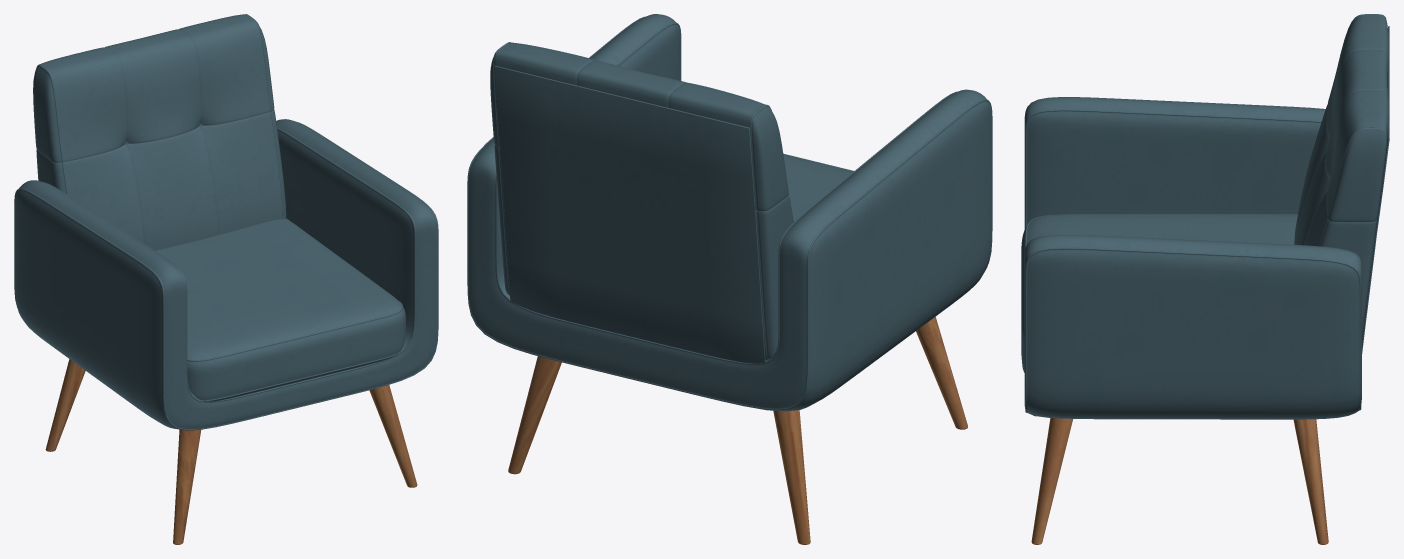
Rendered from lounge-chair-2k.glb.
3 views of the same model, side by side, from view 1: azimuth 30°, elevation 25°; view 2: azimuth 150°, elevation 25°; view 3: azimuth 270°, elevation 25° (orthographic). The views are drawn at different scales.
Visible parts, largest first — view 1: Plane.001; view 2: Plane.001; view 3: Plane.001.
Boxes of the visible parts, x1=… form: Plane.001: x1=14, y1=14, x2=438, y2=544; Plane.001: x1=467, y1=14, x2=992, y2=544; Plane.001: x1=1021, y1=14, x2=1389, y2=544.
Size of the model in its own units: 0.6994 by 0.86 by 0.7019.
Materials: 1 (1 with a texture image).
